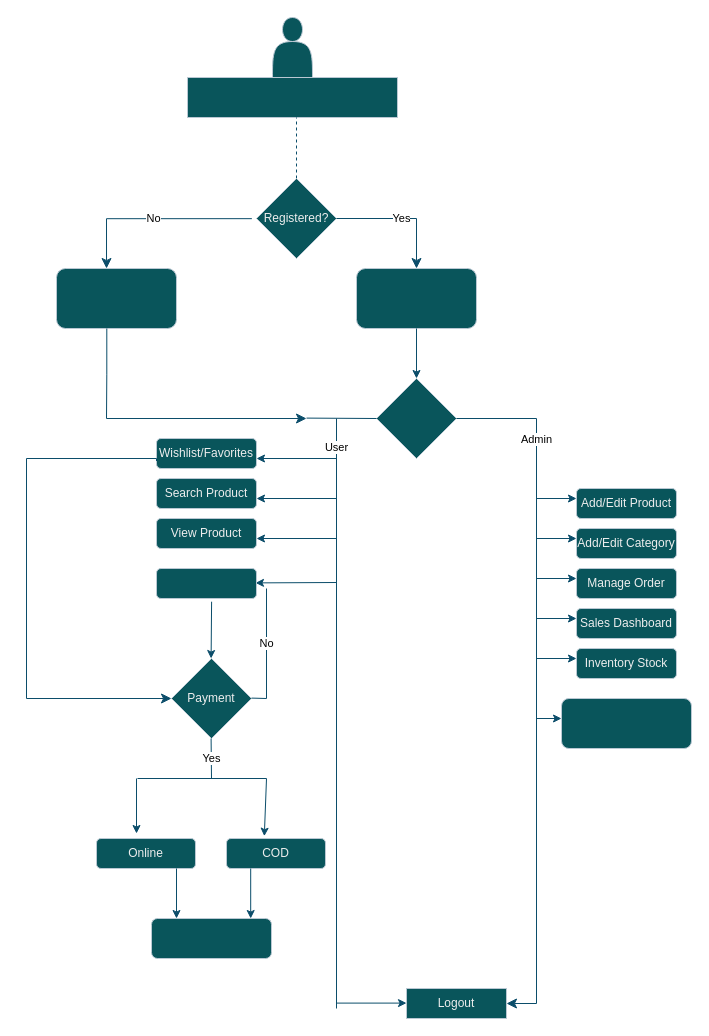
The diagram is 709 pixels wide and 1036 high, and some of its shapes have lost their labels. The shapes that lost their labels are listed below. From the top down, each one's centre as x and y in pixels, then its label:
the point at 292,97: Customer A person who browses and purchases products online
the point at 116,298: Register, Search, Add to Cart, Place Order
the point at 416,298: Login,Search, Add to Cart, Place Order
the point at 416,418: User/Admin Login
the point at 206,583: Buy & Add to Cart
the point at 626,723: Update,Cancel,Refund
the point at 211,938: Order Placed
